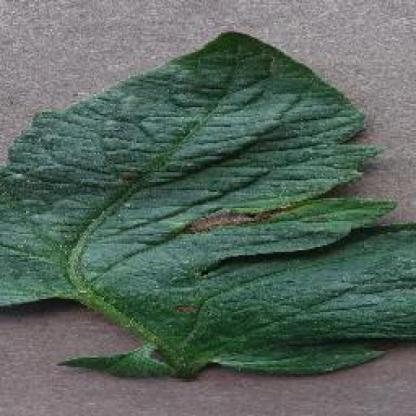Tomato_Blight: (0, 32, 404, 322)
